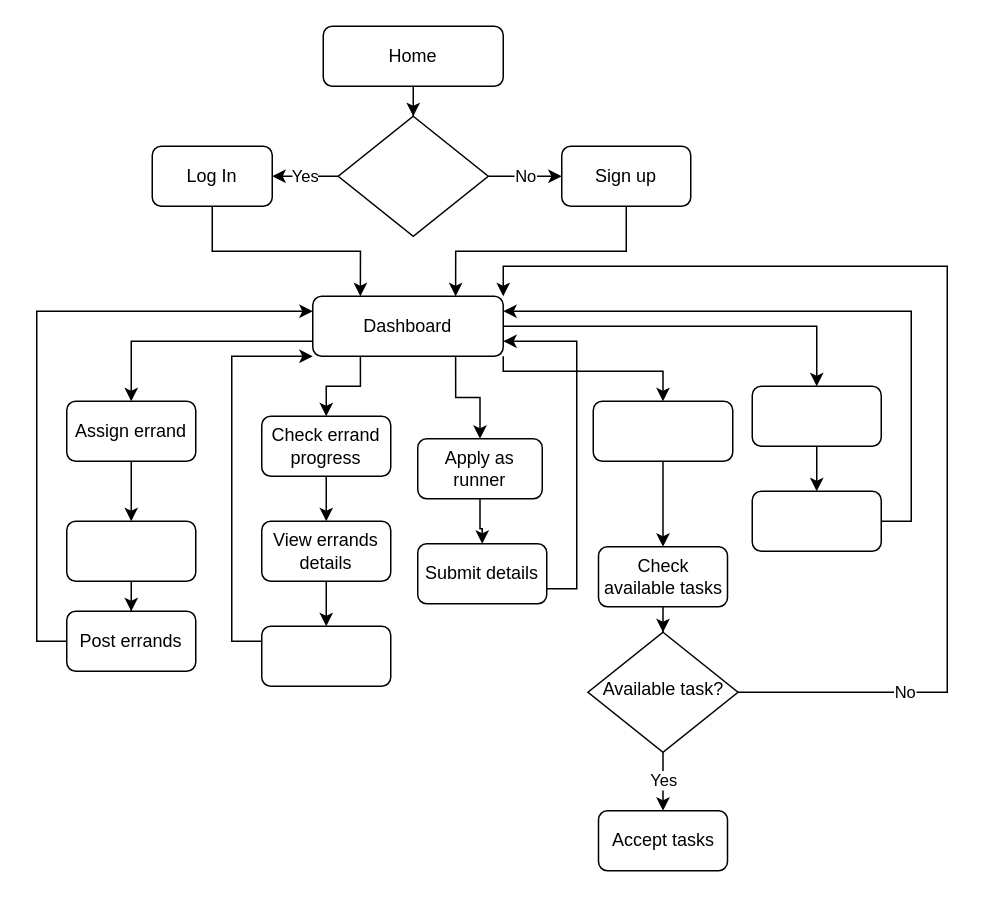
Image size: 986x897. Some labels were removed from this diagram. Each missing label, with the centre of its shape:
Check personal information: the point at 816,415
Edit account details: the point at 816,520
Enter errand's details: the point at 130,550
Have an account?: the point at 412,175
Switch to runner interface: the point at 662,430
View errands status: the point at 325,655
